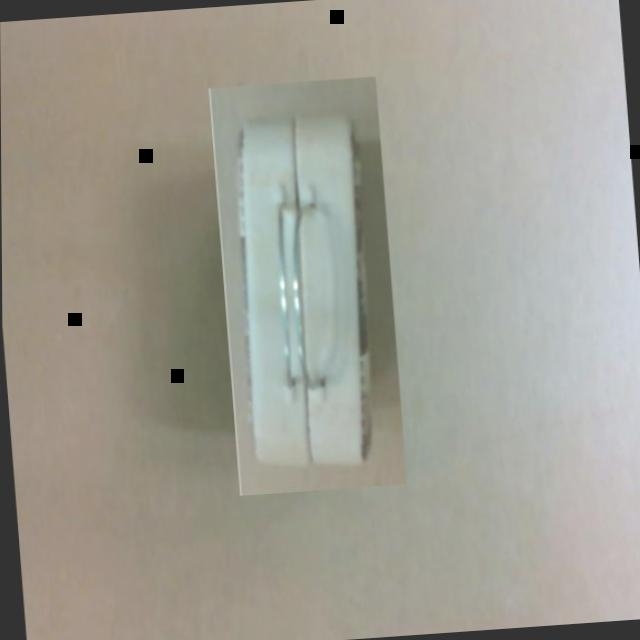luggage: (208, 76, 407, 498)
